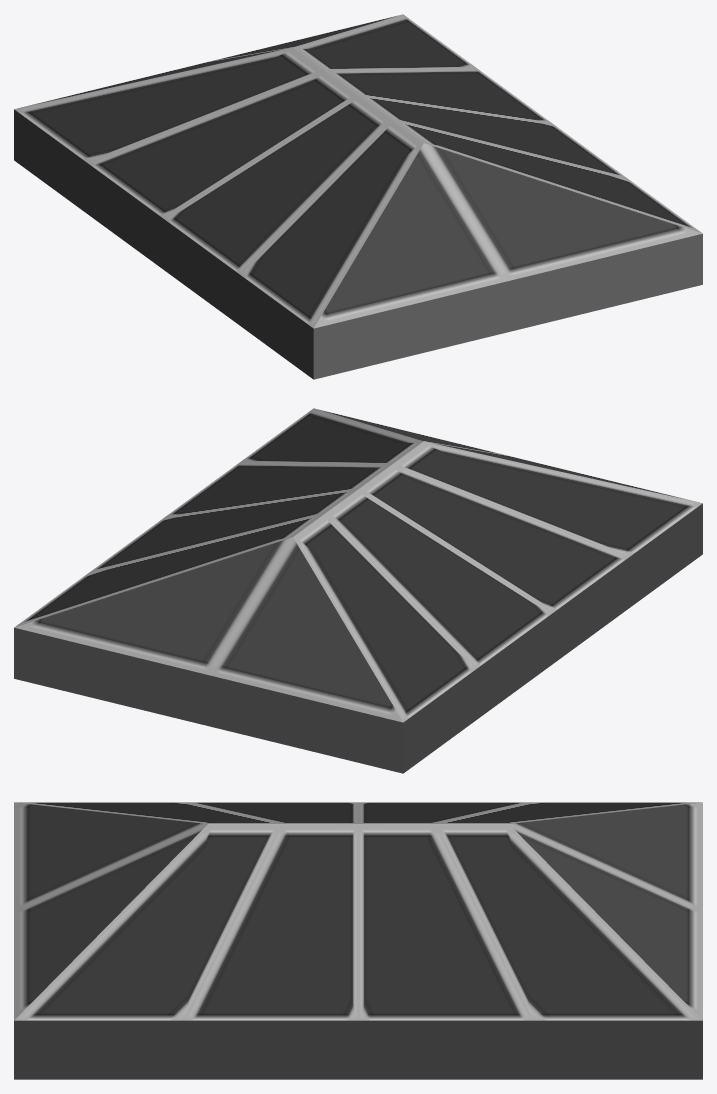
File: SM_Window_Roof_02.fbx
3 renders of one model, top to bottom at view 1: azimuth 30°, elevation 25°; view 2: azimuth 150°, elevation 25°; view 3: azimuth 270°, elevation 25°, orthographic. The views are drawn at different scales.
Visible parts, largest first — view 1: SM_Window_Roof_02; view 2: SM_Window_Roof_02; view 3: SM_Window_Roof_02.
Boxes of the visible parts, x1,y1,x2,y2 form: SM_Window_Roof_02: (14,14,702,379); SM_Window_Roof_02: (14,408,702,773); SM_Window_Roof_02: (14,802,702,1079).
Size of the model in its own units: 2.56 by 0.7998 by 3.41.
